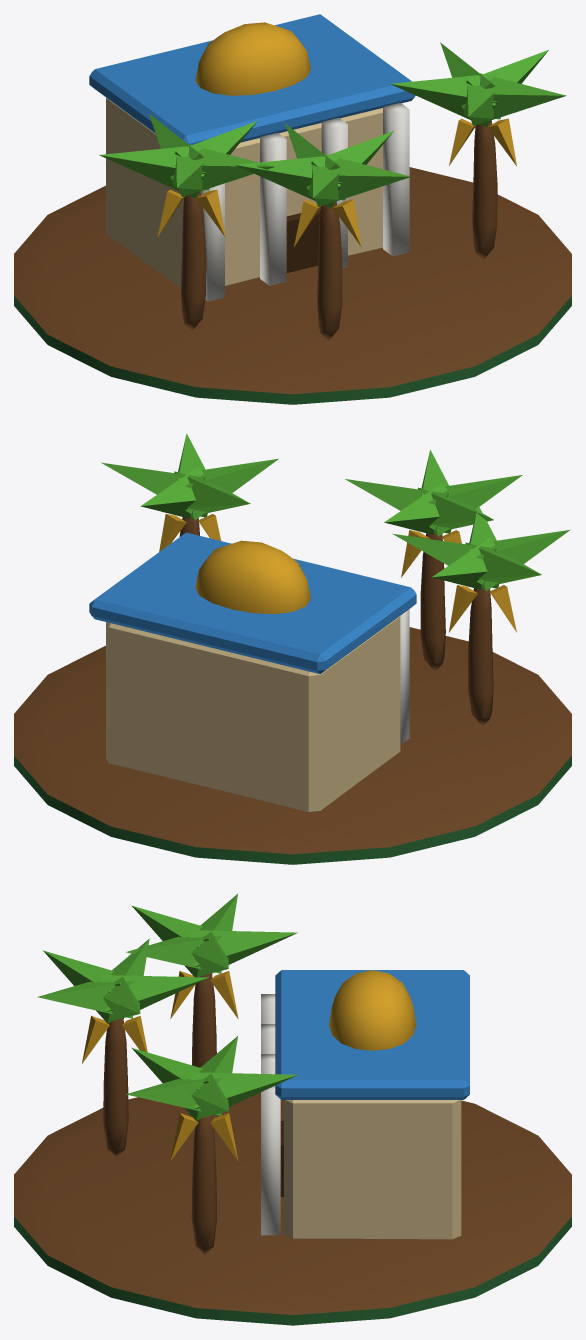
3 renders of one model, top to bottom at view 1: azimuth 30°, elevation 25°; view 2: azimuth 150°, elevation 25°; view 3: azimuth 270°, elevation 25°, orthographic.
Parts seen in each view (by area): view 1: fazenda_0_base, fazenda_1_torreta; view 2: fazenda_0_base, fazenda_1_torreta; view 3: fazenda_0_base, fazenda_1_torreta.
Part boxes in pixels (box(x1,y1,x2,y2)): fazenda_0_base: box(14, 14, 571, 404); fazenda_1_torreta: box(99, 42, 566, 341); fazenda_0_base: box(14, 532, 571, 864); fazenda_1_torreta: box(101, 433, 570, 726); fazenda_0_base: box(14, 970, 571, 1325); fazenda_1_torreta: box(37, 894, 297, 1255).
Size of the model in its own units: 1.28 by 0.5748 by 1.26.
